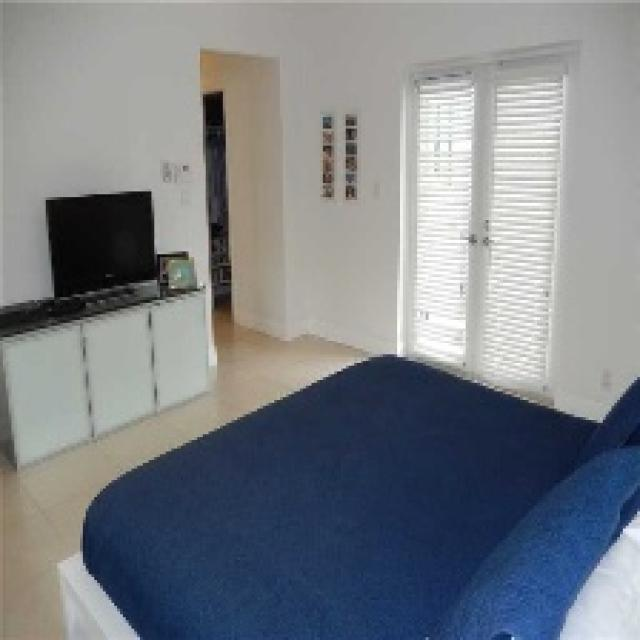Bed: (54, 352, 637, 637)
